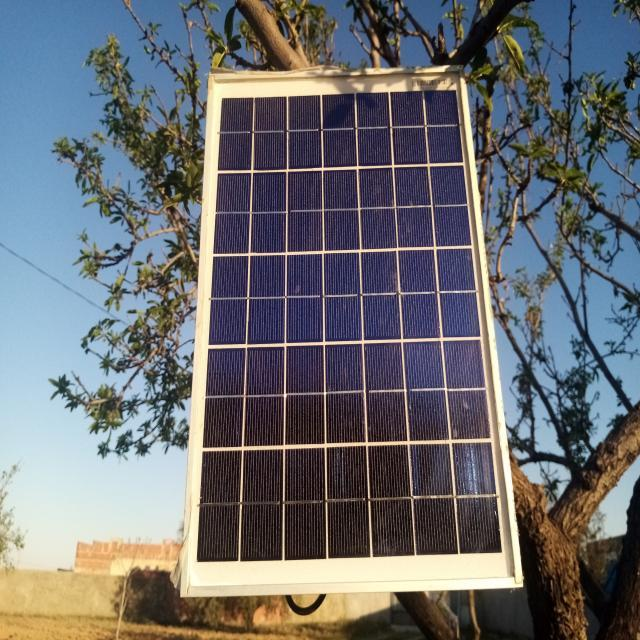no faulty: (183, 68, 522, 589)
